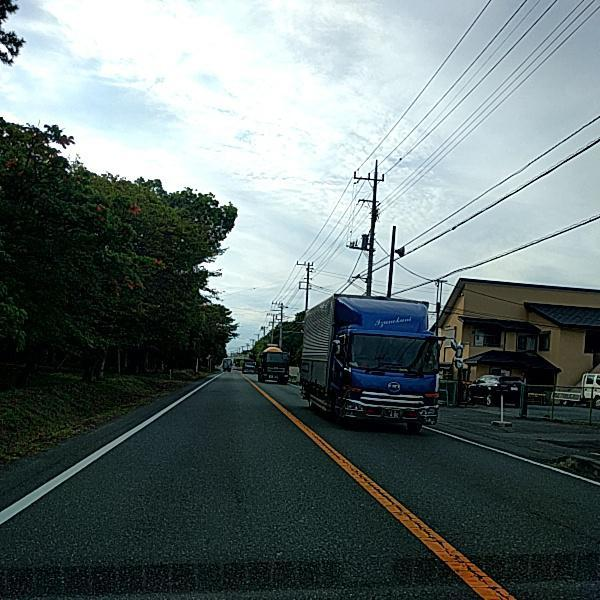D44: (274, 399, 508, 596)
